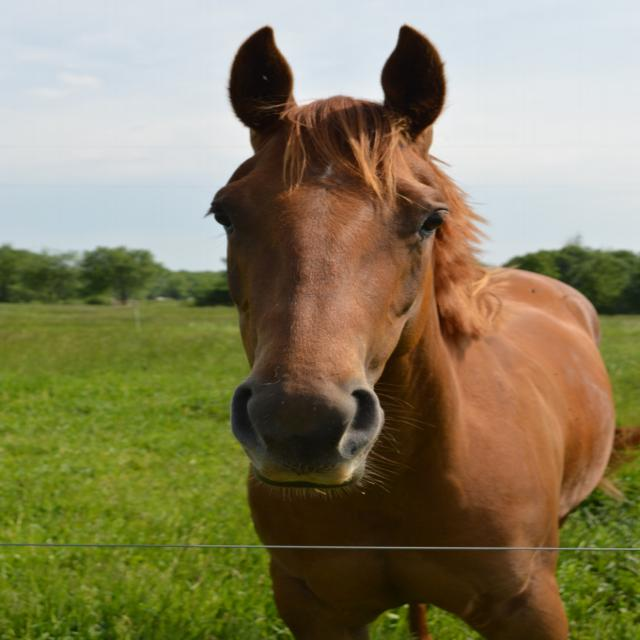Horse: (201, 23, 639, 640)
